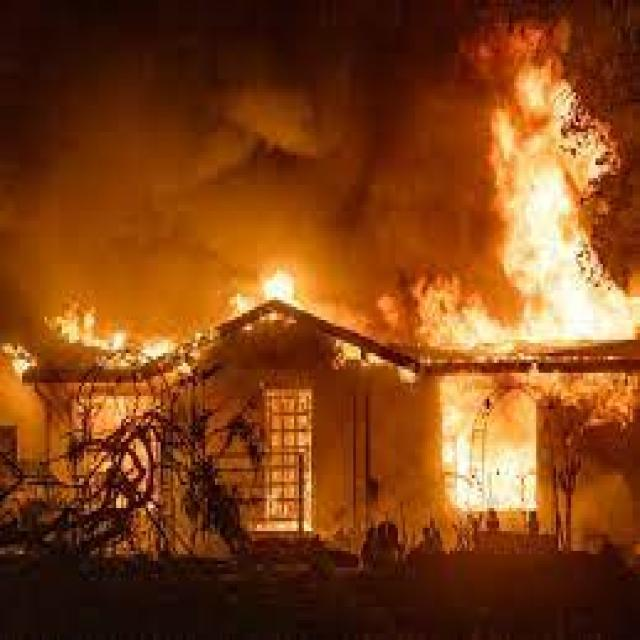Fire: (490, 84, 610, 354), (436, 392, 530, 530)
Smoke: (9, 10, 507, 300)
